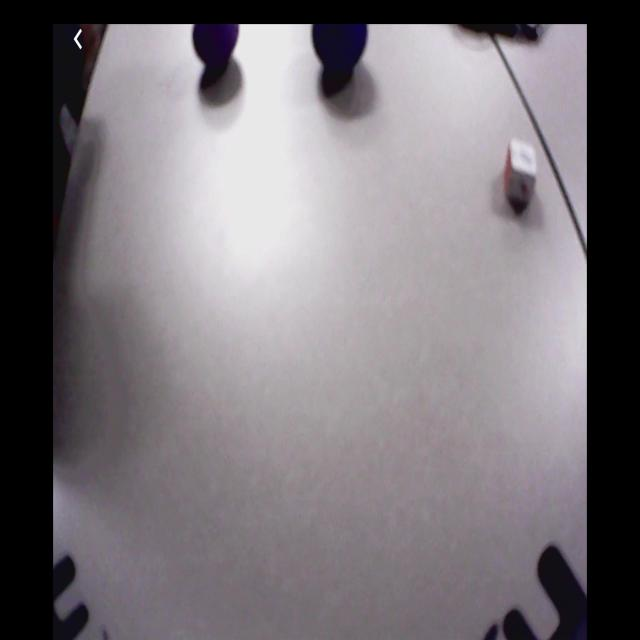ball: (311, 23, 370, 72), (193, 25, 246, 73)
